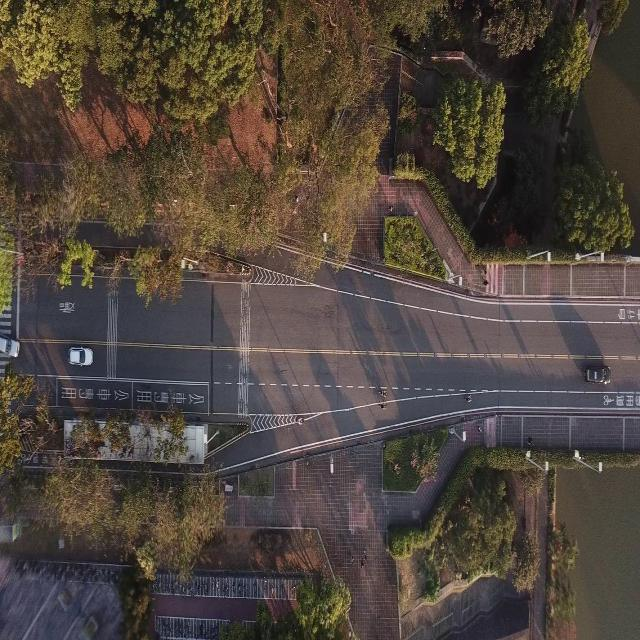car: (582, 362, 611, 383), (67, 345, 92, 365), (0, 333, 20, 357)
